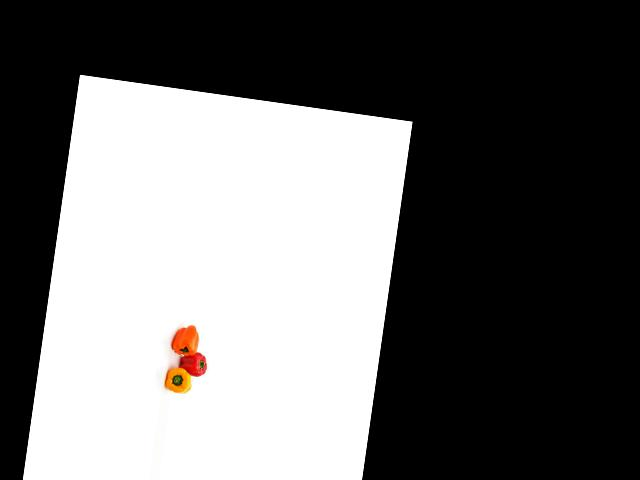bell_pepper: (163, 362, 195, 396)
